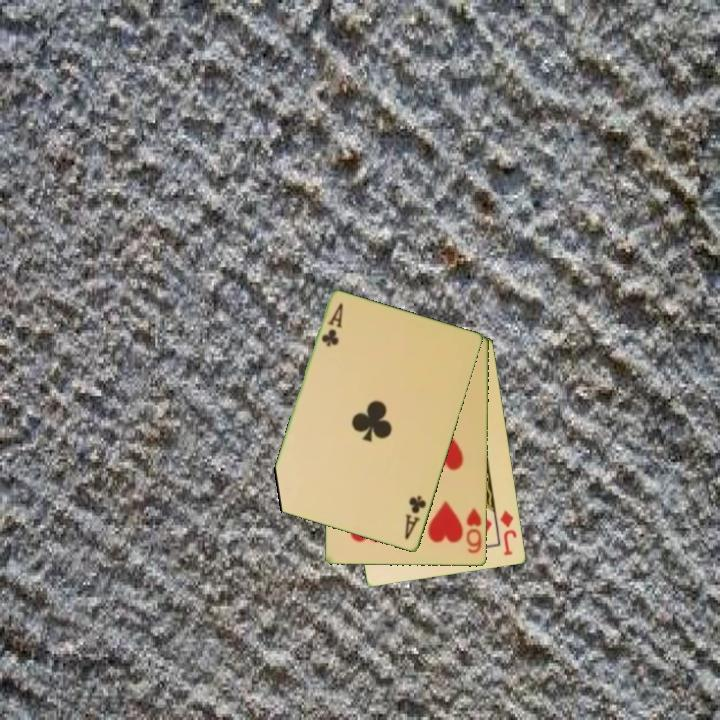6h: (463, 505, 485, 556)
Ac: (401, 492, 429, 543), (318, 300, 346, 350)
Jd: (497, 507, 520, 559)
